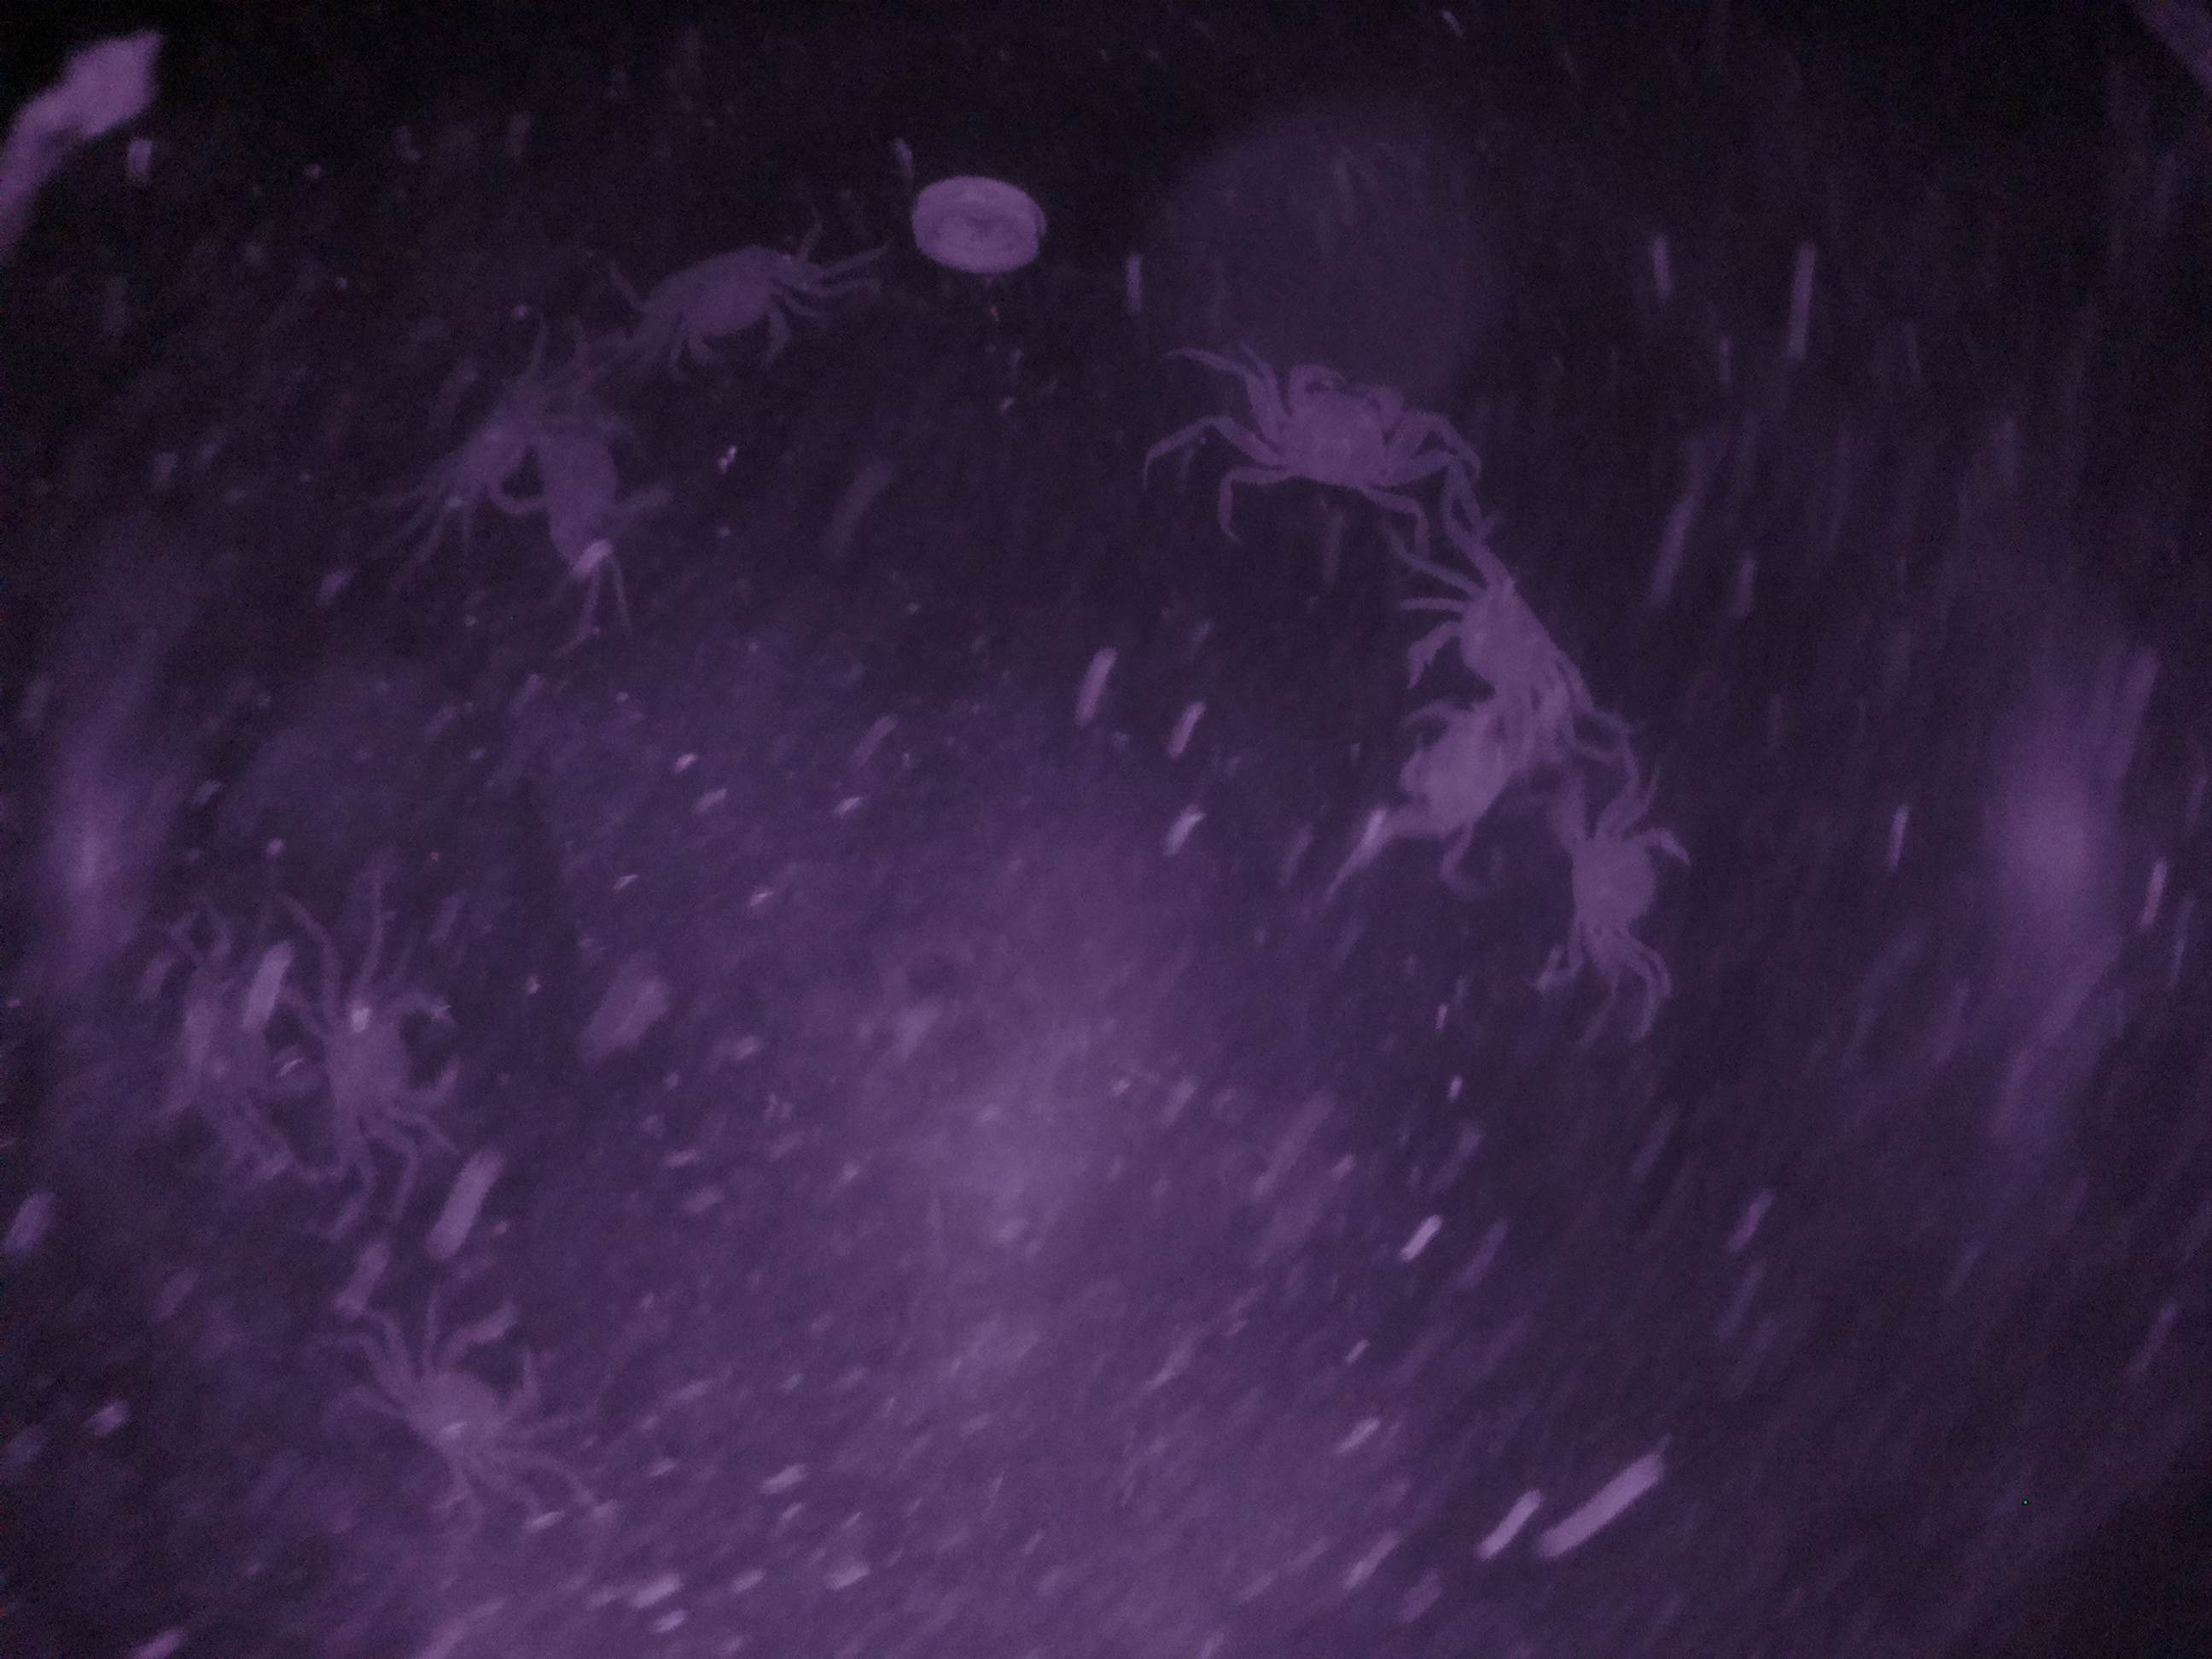Crab: (1195, 347, 1446, 530), (296, 939, 495, 1169), (620, 209, 827, 392)
